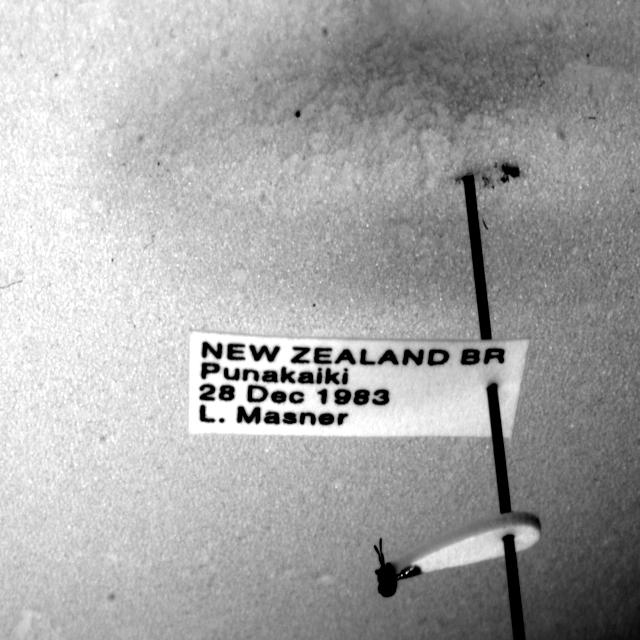typed_label: (189, 332, 529, 437)
